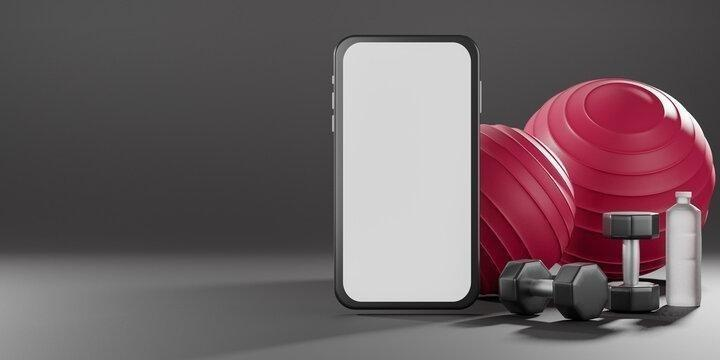gym bottle: (665, 190, 704, 310)
